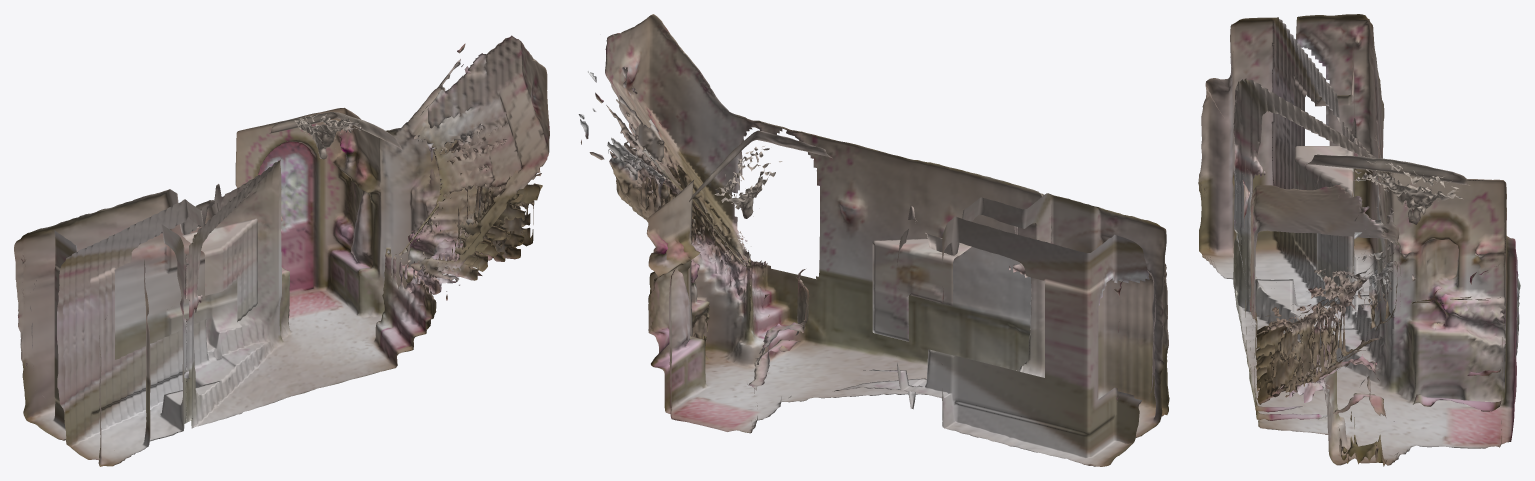
Rendered from cottage-rose-entrace-hall-1-1-pano_collider.glb.
3 renders of one model, left to right at view 1: azimuth 30°, elevation 25°; view 2: azimuth 150°, elevation 25°; view 3: azimuth 270°, elevation 25°, orthographic. The views are drawn at different scales.
Parts seen in each view (by area): view 1: world; view 2: world; view 3: world.
Boxes of the visible parts, bbox=[...] form: world: bbox=[14, 35, 549, 466]; world: bbox=[578, 14, 1169, 466]; world: bbox=[1198, 14, 1520, 466].
Bounding box in the file's own units: 8.36 × 4.56 × 3.84.
